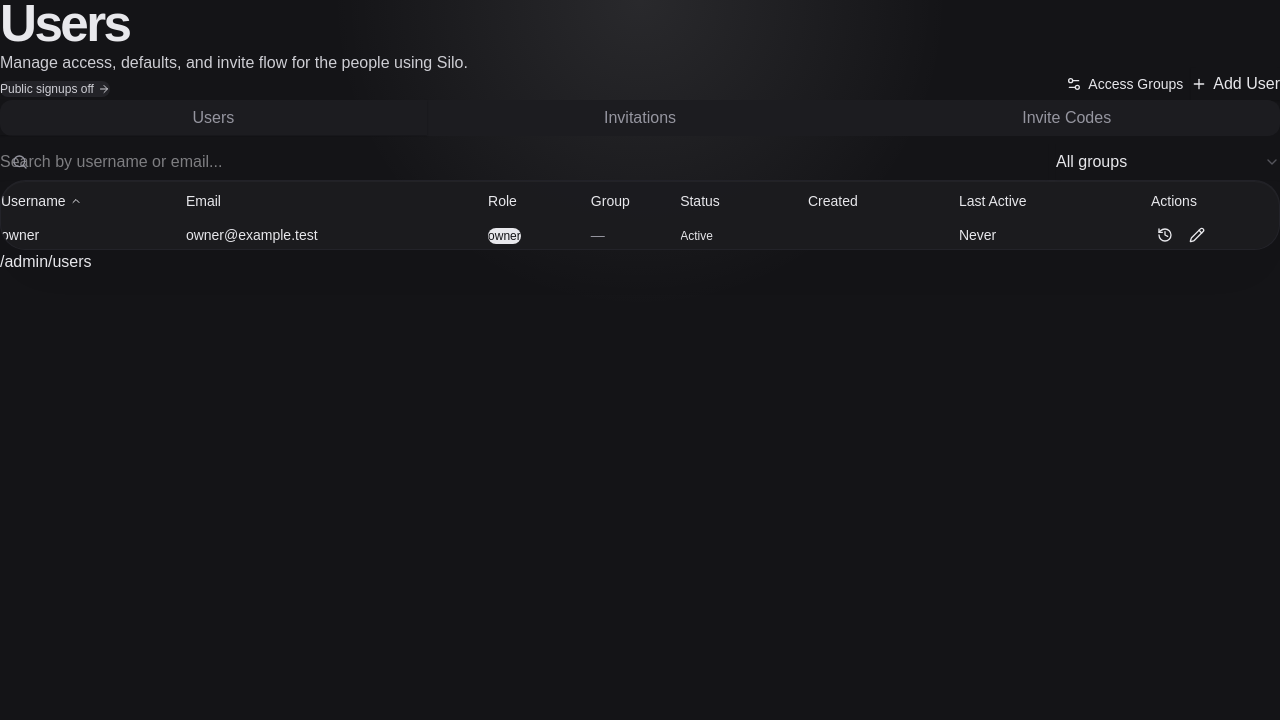
Test case: AdminUsers user dialog policy hints › keeps a new user's hints on its group while the group list loads
Click the button "Add User" at (1236, 84), box [1191,68,1279,100]
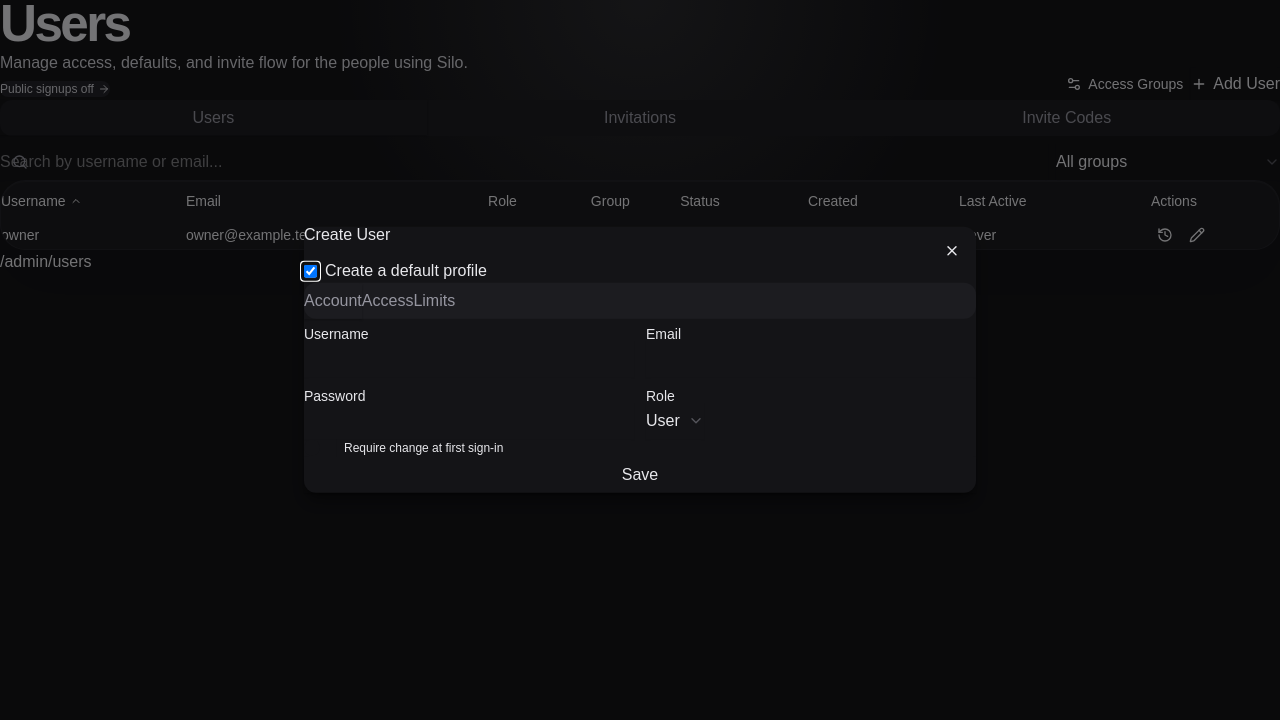
Click the tab "Limits" at (434, 301), box [413,283,455,318]
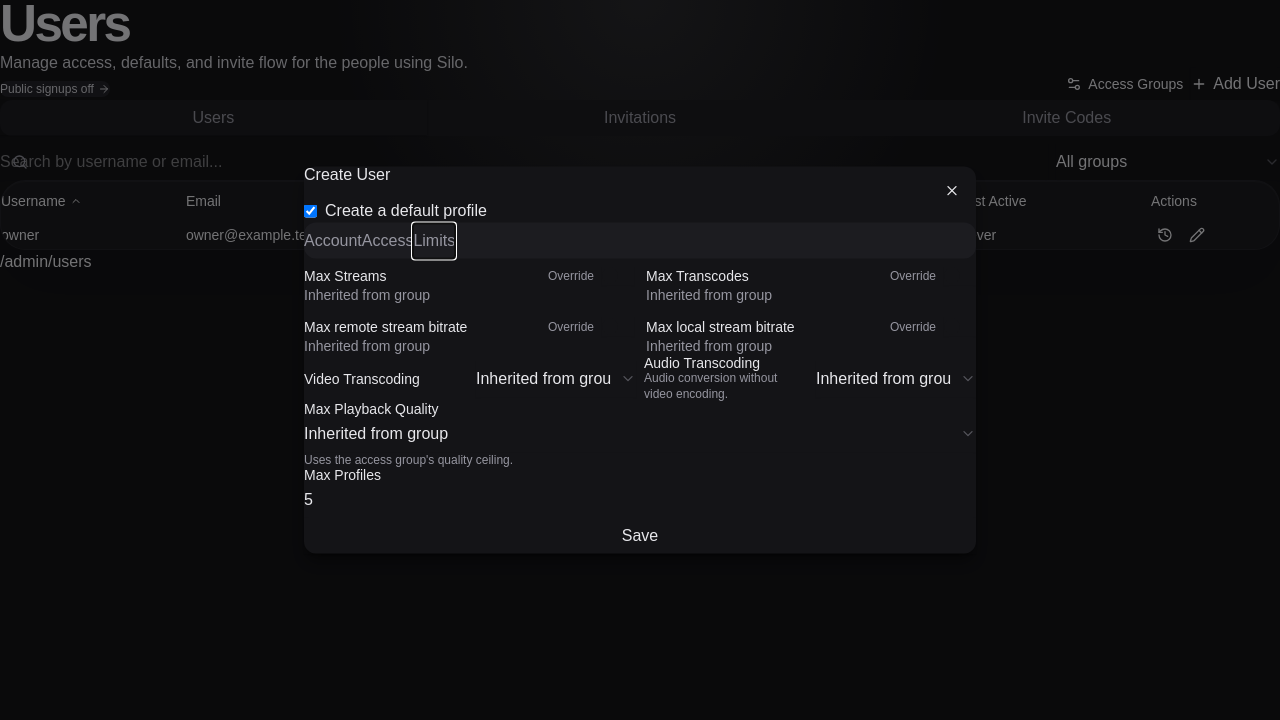
Result: the text "Inherited from group" below "Max Streams" is shown at [304,287,430,303]
Click the tab "Account" at (333, 241), box [304,223,362,258]
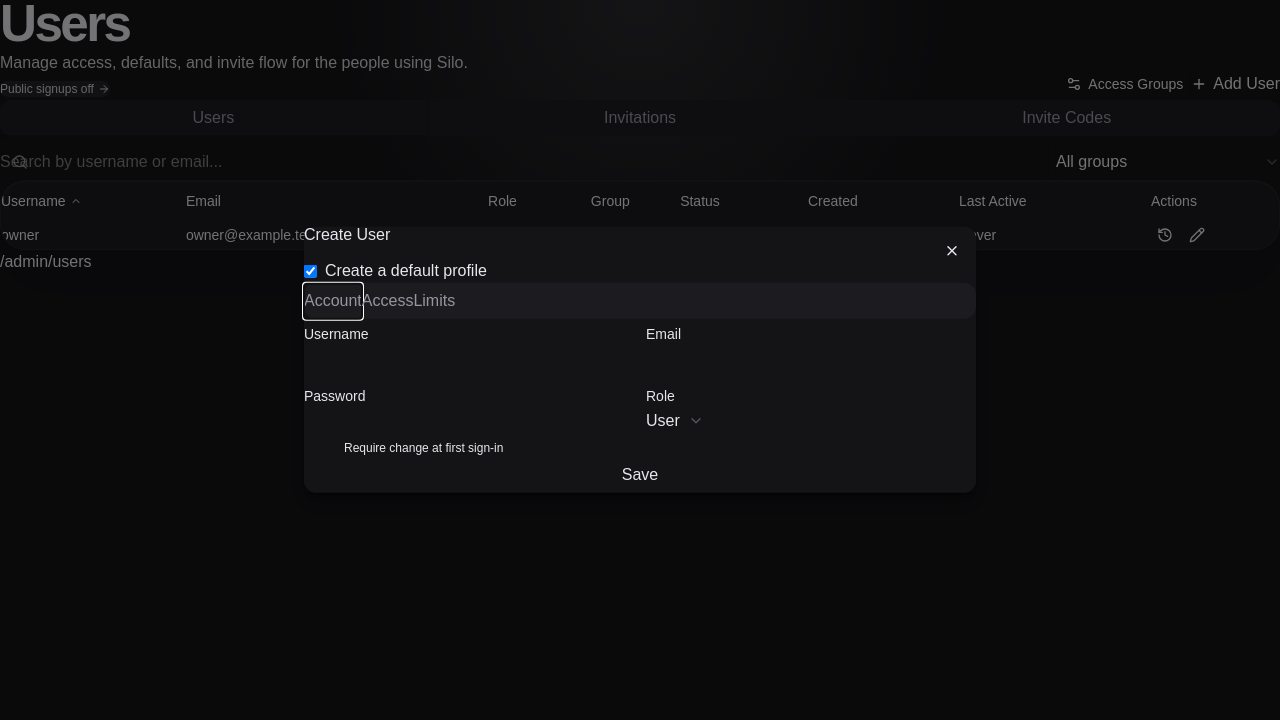
Click the dropdown named "Role" at (675, 421), box [646,403,704,439]
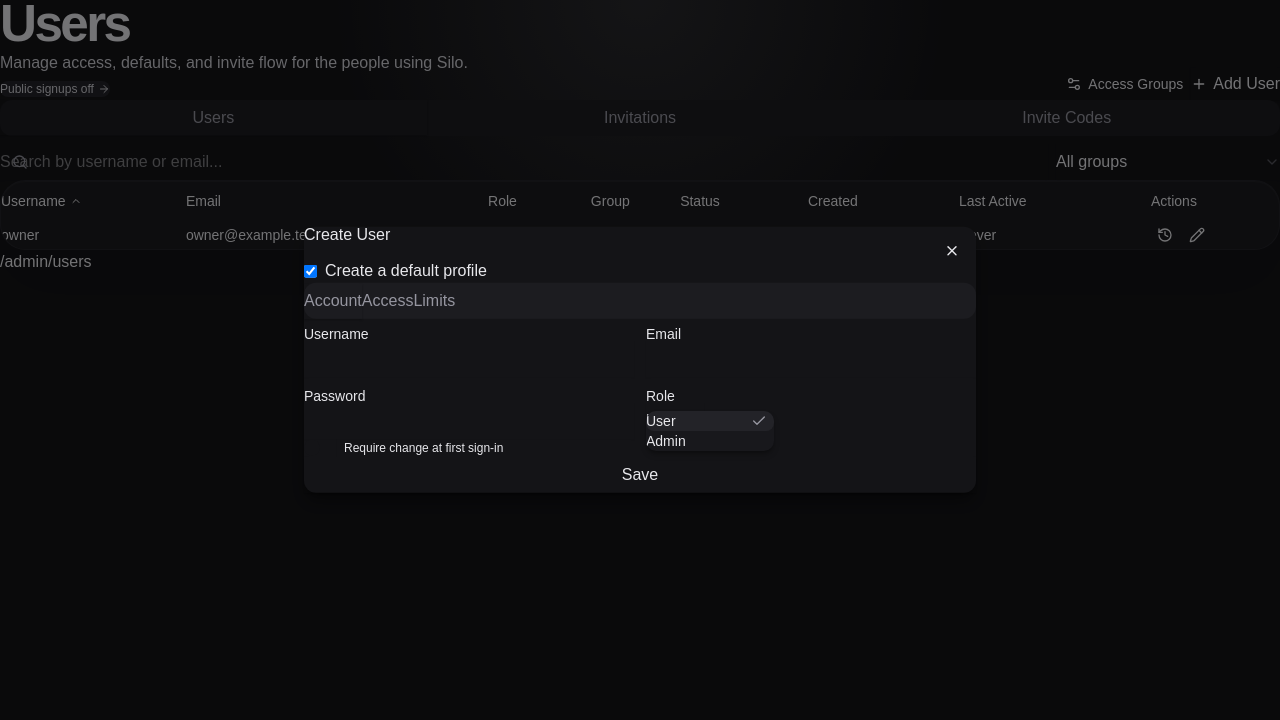
Click the option "Admin" at (666, 441), box [646,433,686,449]
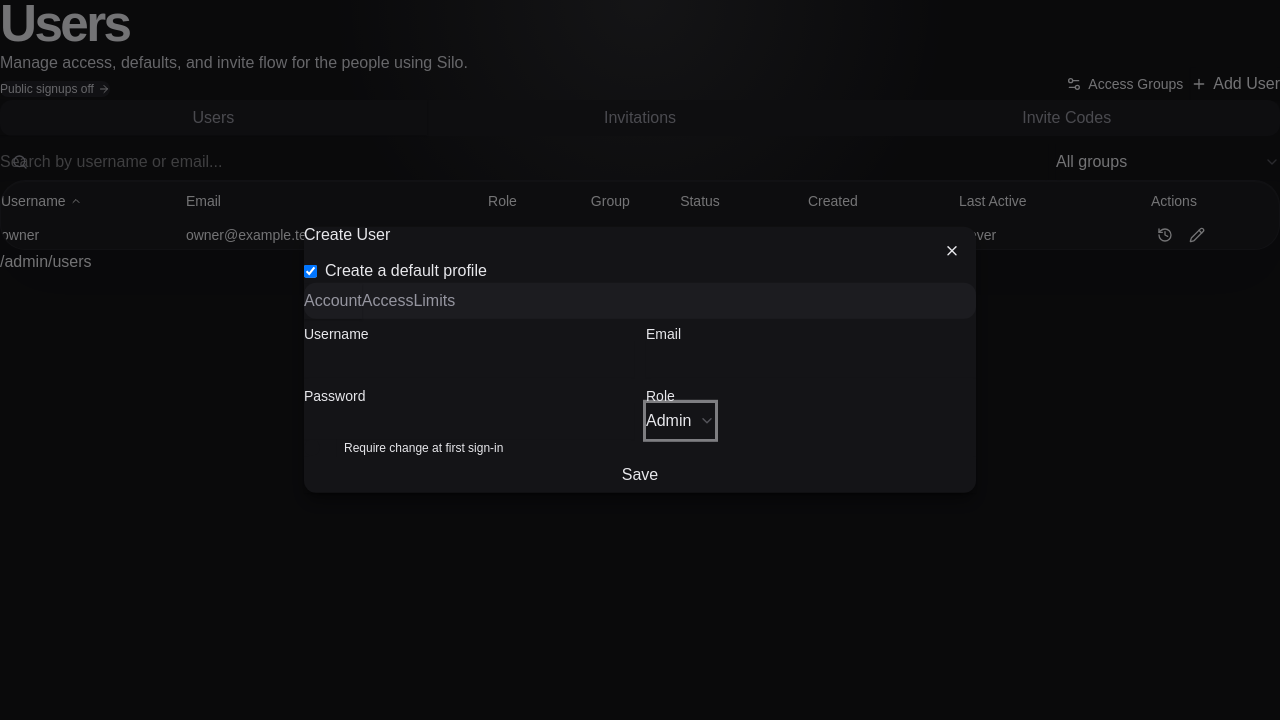
Click the tab "Limits" at (434, 301), box [413,283,455,318]
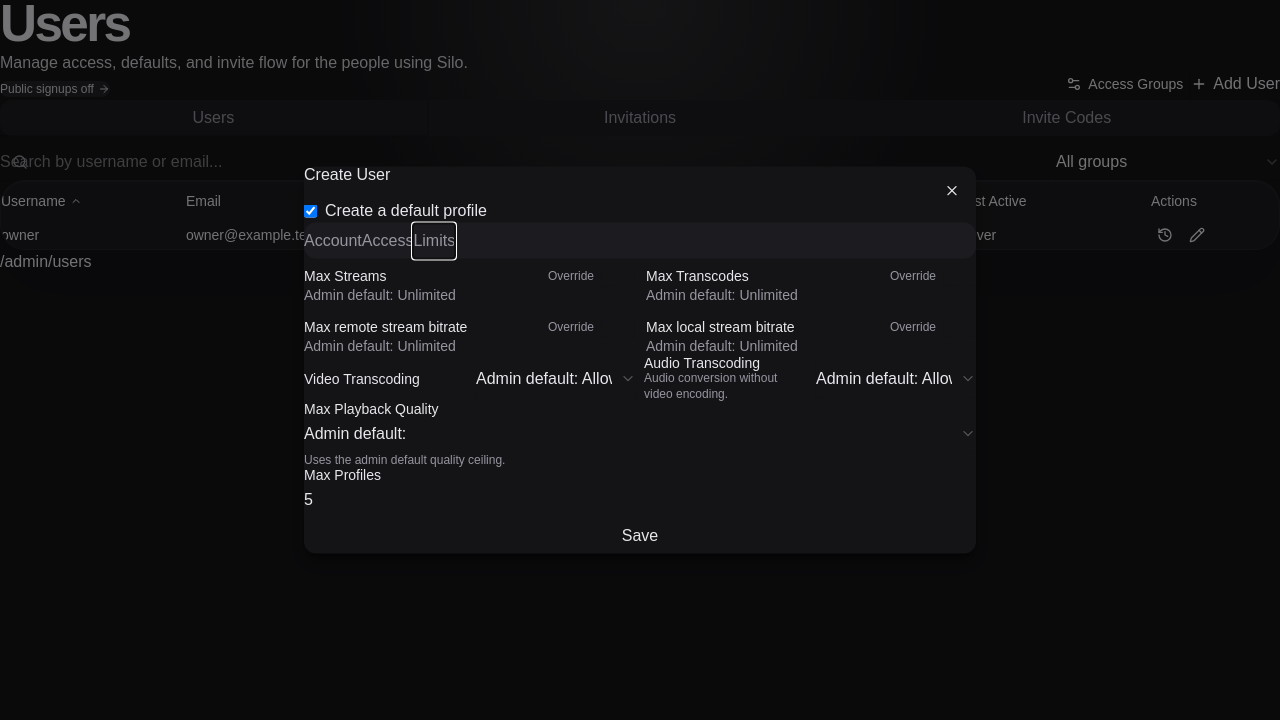
Expected: the text "Inherit" is not shown
Result: the text "Admin default: Unlimited" is shown 4 times at [304,287,456,303]; [646,287,798,303]; [304,337,456,353]; [646,337,798,353]
